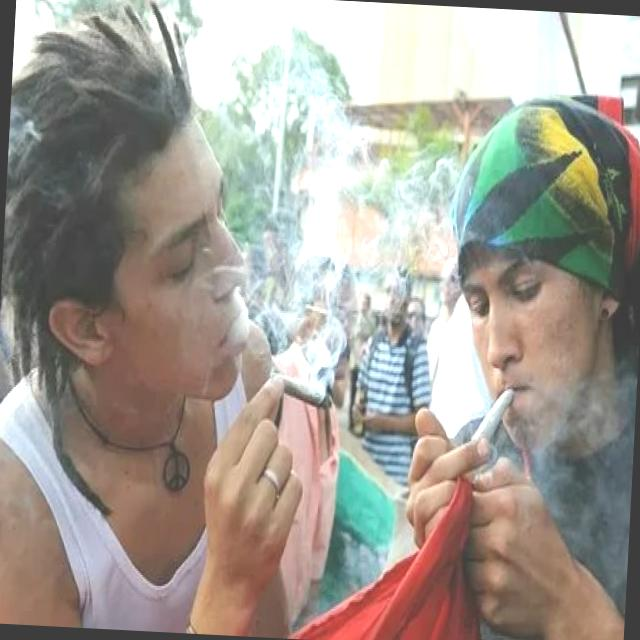cigarette: (455, 381, 518, 476), (264, 370, 336, 414)
